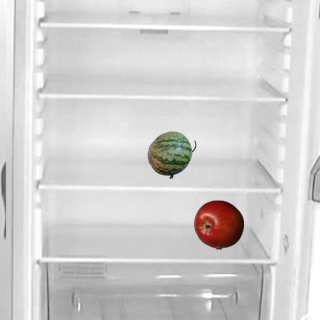Apple Braeburn: (193, 199, 243, 249)
Watermelon: (146, 129, 196, 179)
